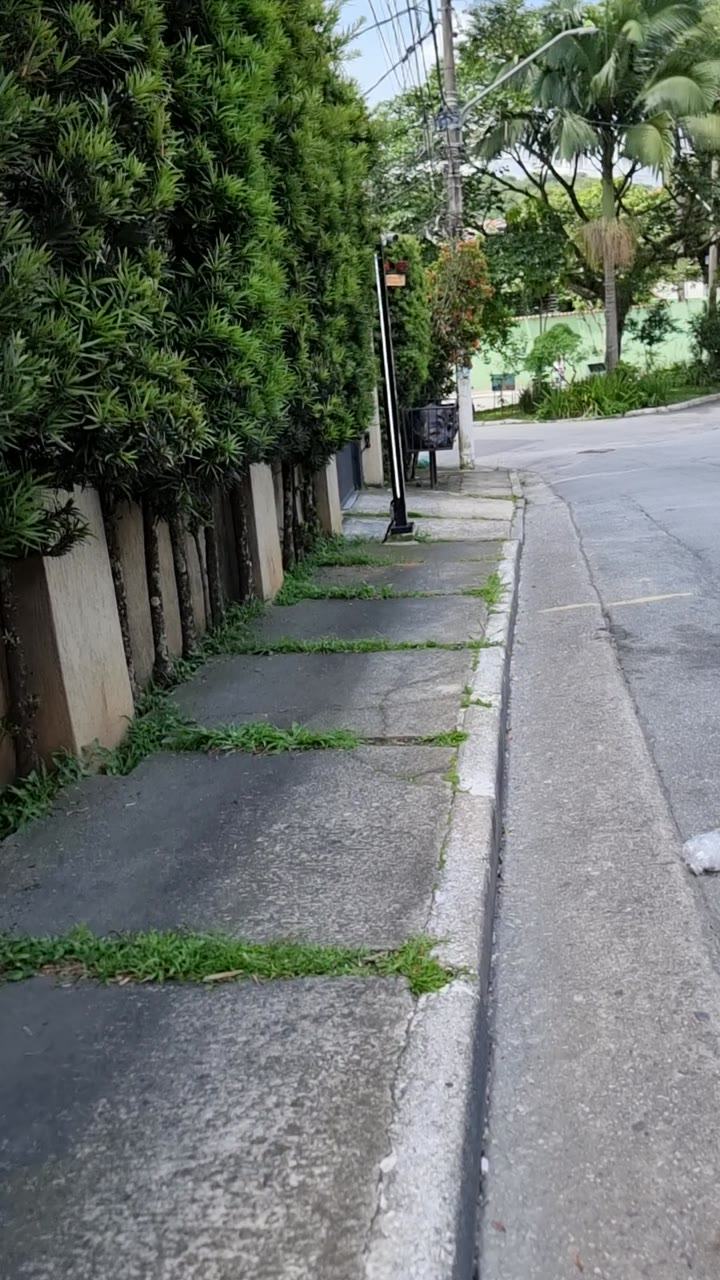obstaculo: (372, 236, 413, 541)
